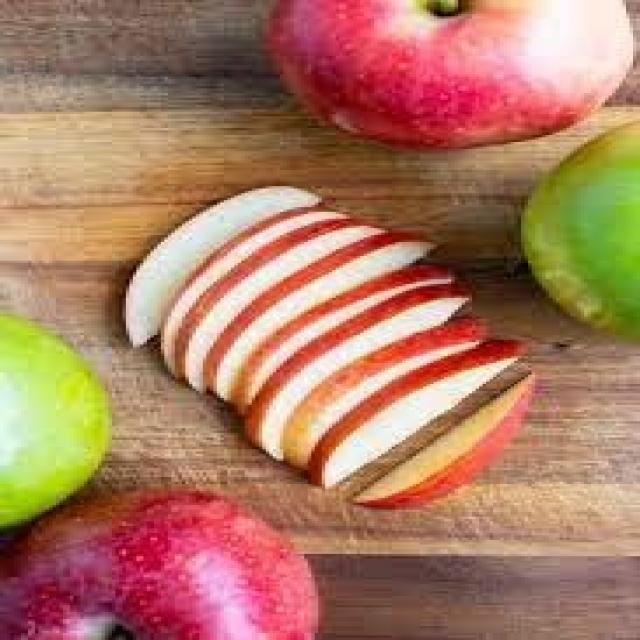Apple: (227, 286, 497, 475), (168, 219, 444, 398), (108, 160, 322, 360), (283, 331, 535, 491), (329, 368, 542, 519)
